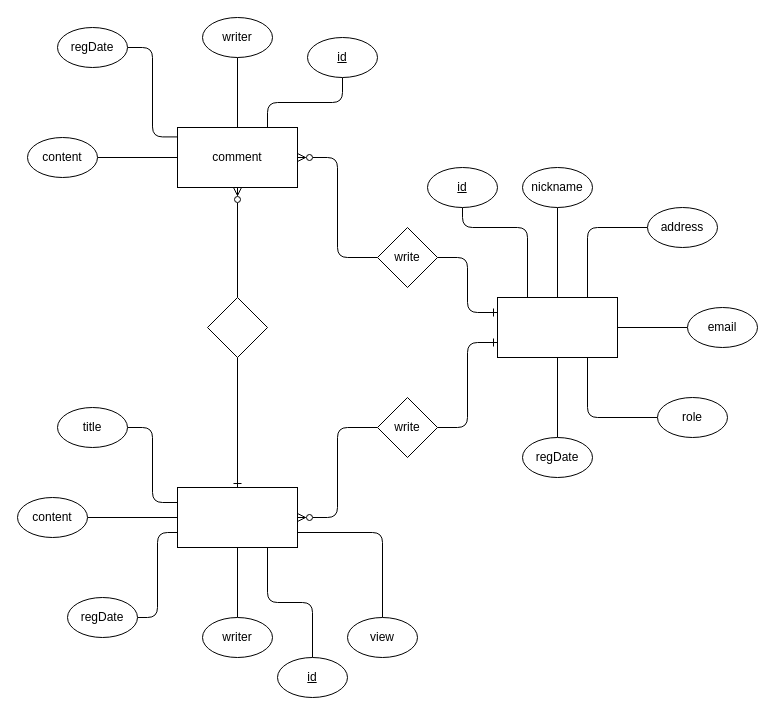
Some shapes in this 775 by 715 pixel diagram are drawn without their labels. Here are the shapes that lost their labels. From the top down, the box of each, then its label:
(206, 296, 268, 358): belong
(496, 296, 618, 358): user
(176, 486, 298, 548): post
